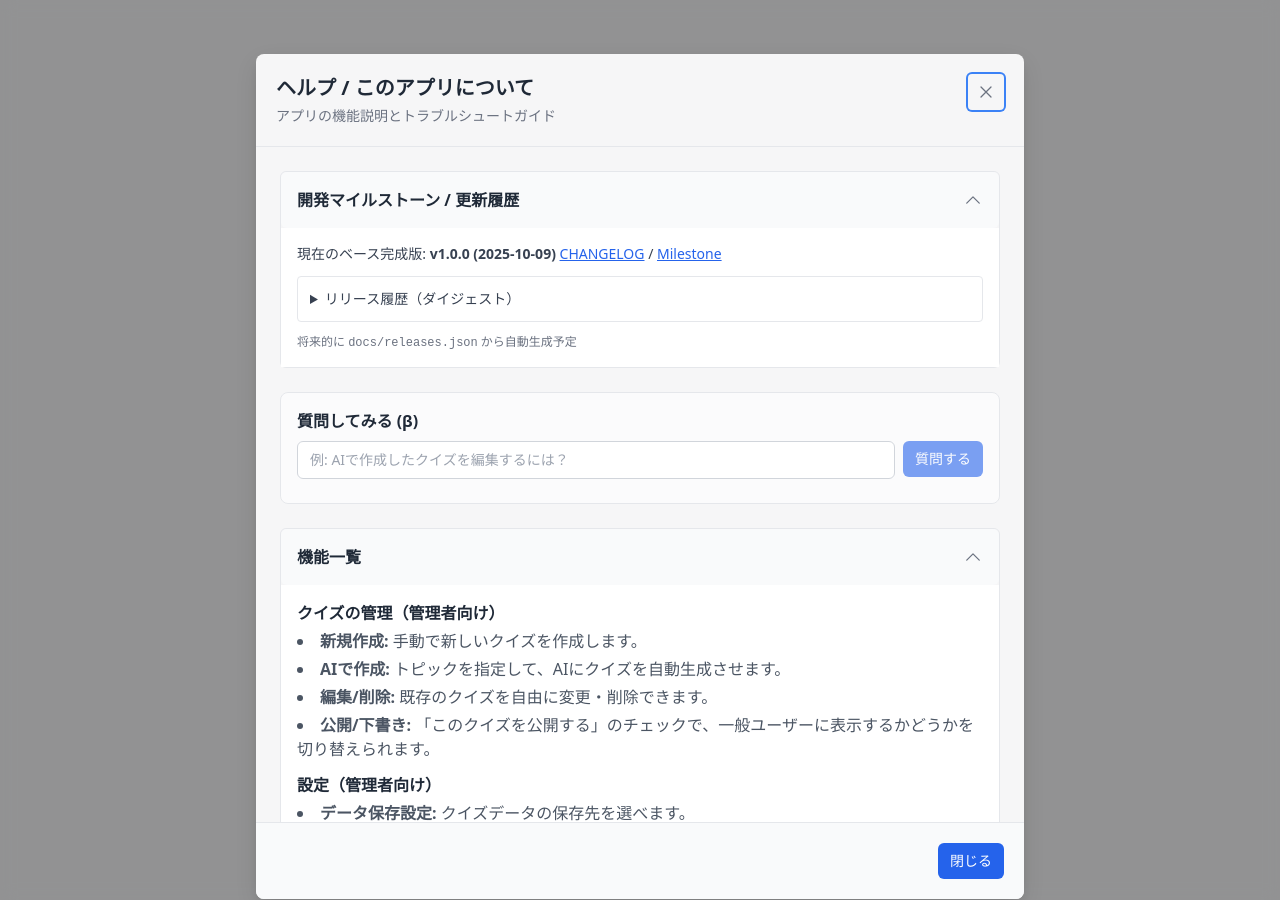
HelpModal › 質問入力→送信成功で履歴表示 & 入力クリア
In the field named "ヘルプ質問入力": [596, 460] box 297,441 -> 895,479, type "どうやって保存しますか?"
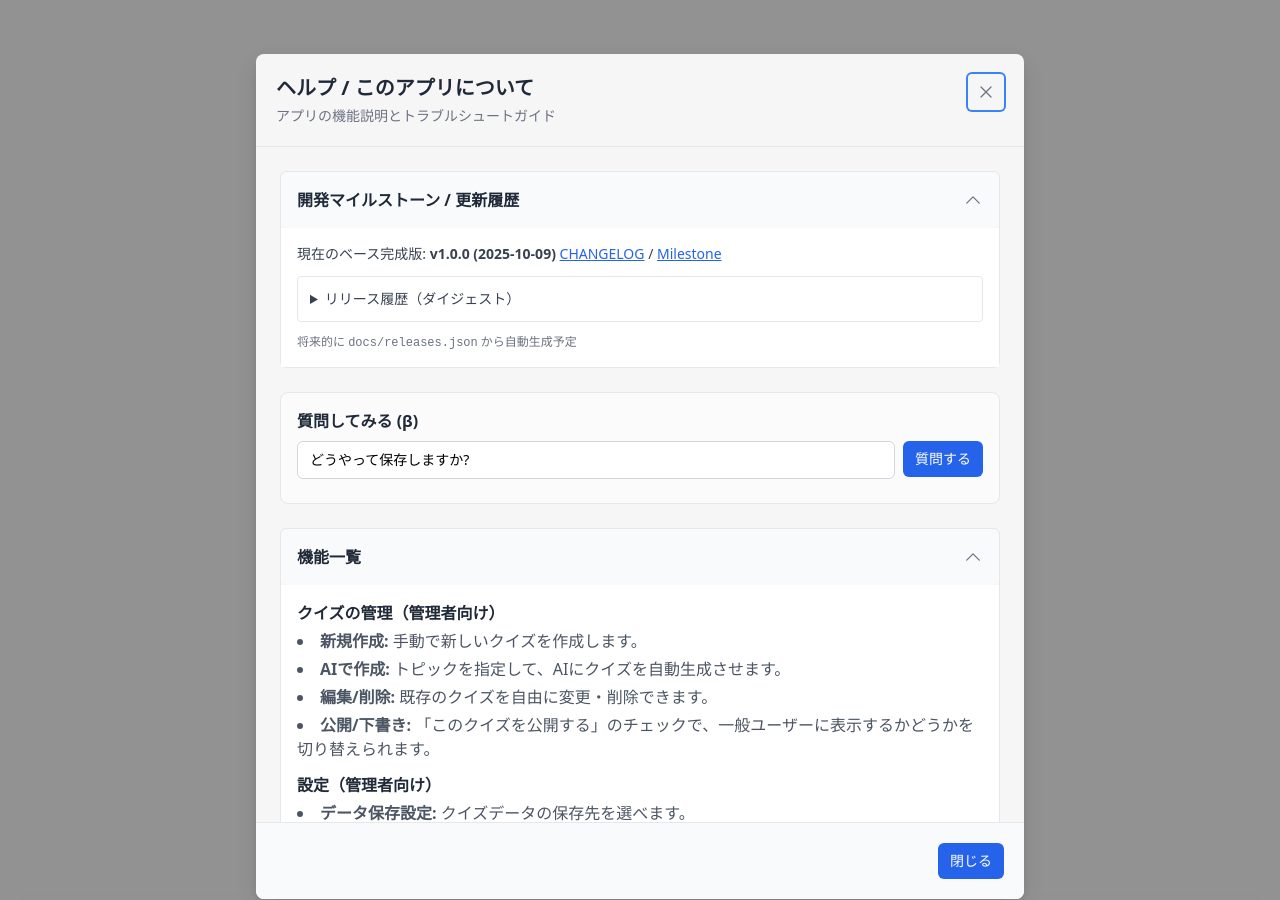
Click the button "質問する": [943, 459] box 903,441 -> 983,477
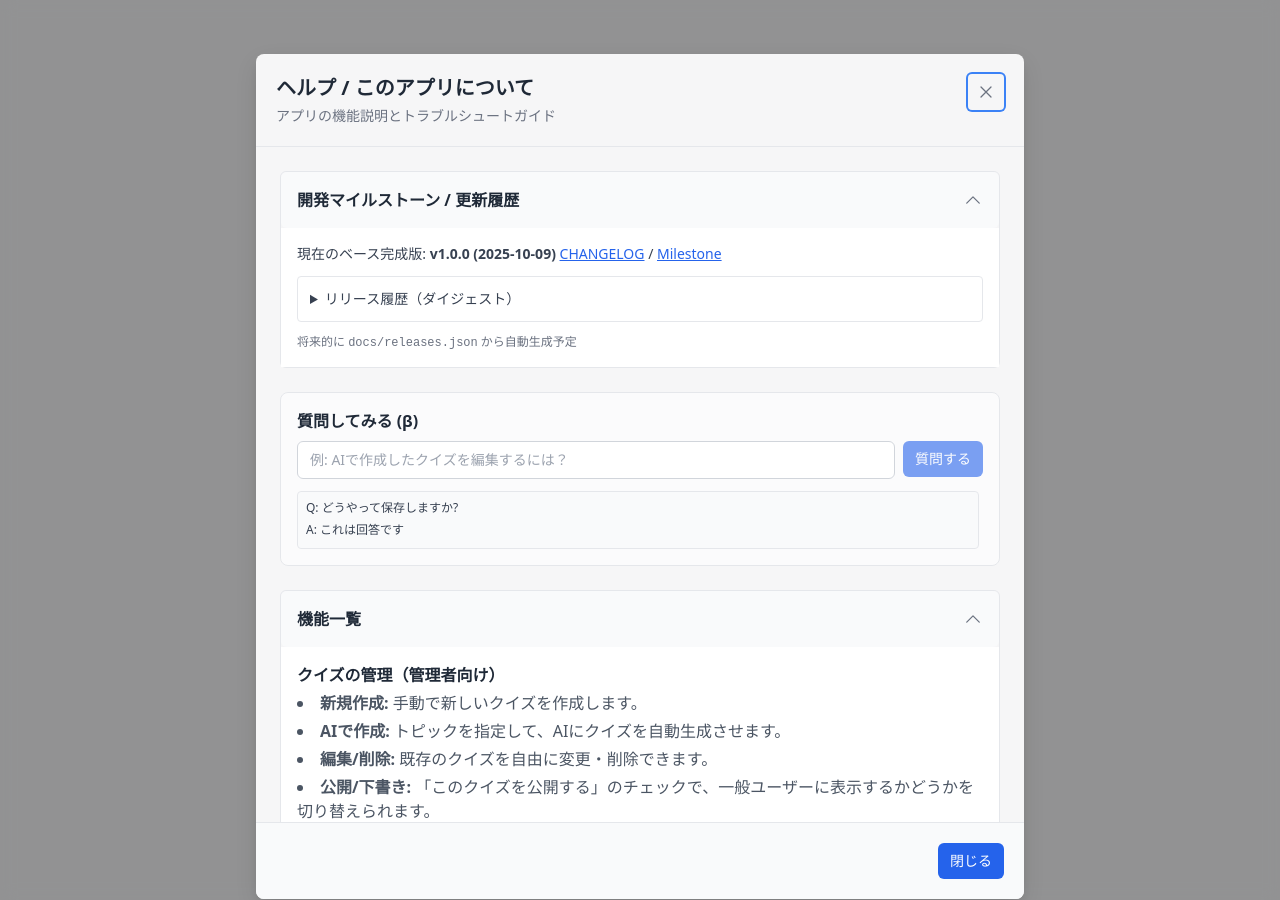
Expected: the text "A: これは回答です" is shown, 306,521 -> 404,538
Expected: the field named "ヘルプ質問入力" is empty, 297,441 -> 895,479
